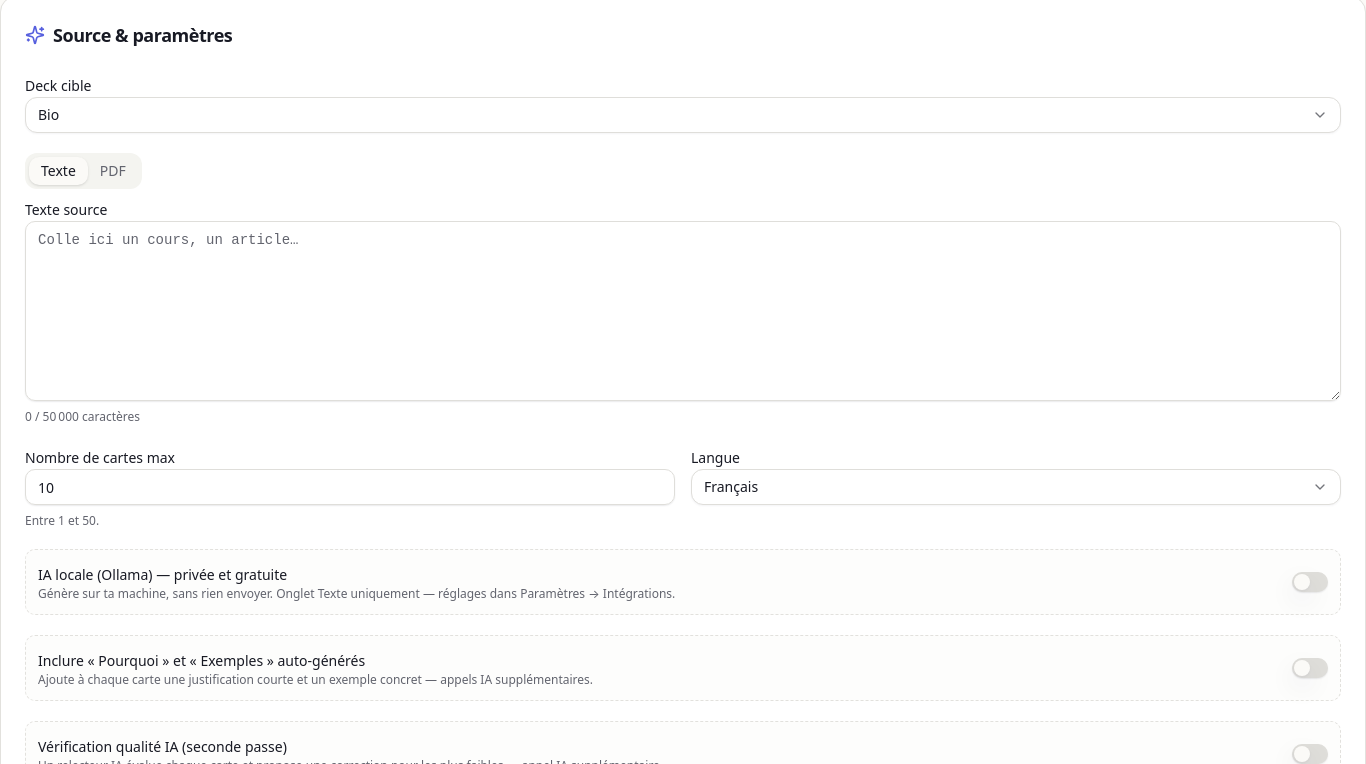
Scenario: AiGenerator — critic pass › applies the suggested fix and drops the suggestion when clicked
This screenshot has width=1366, height=764.
In the text box labelled "Texte source": (683, 311) [25,221,1341,401], type "Some study content."
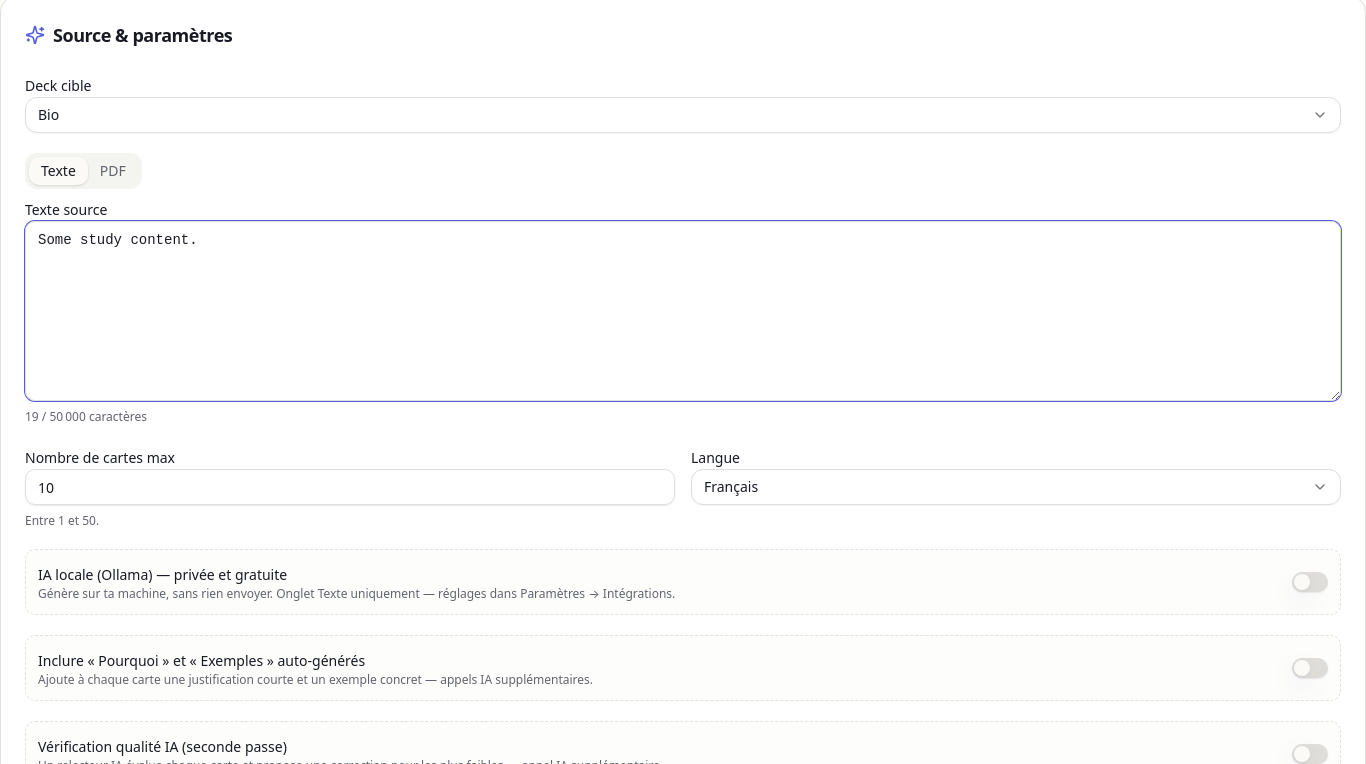
Click the switch named "Vérification qualité IA" in the row of "Vérification qualité IA (seconde passe)": (1310, 754) [1292,744,1328,763]
(page scrolled)
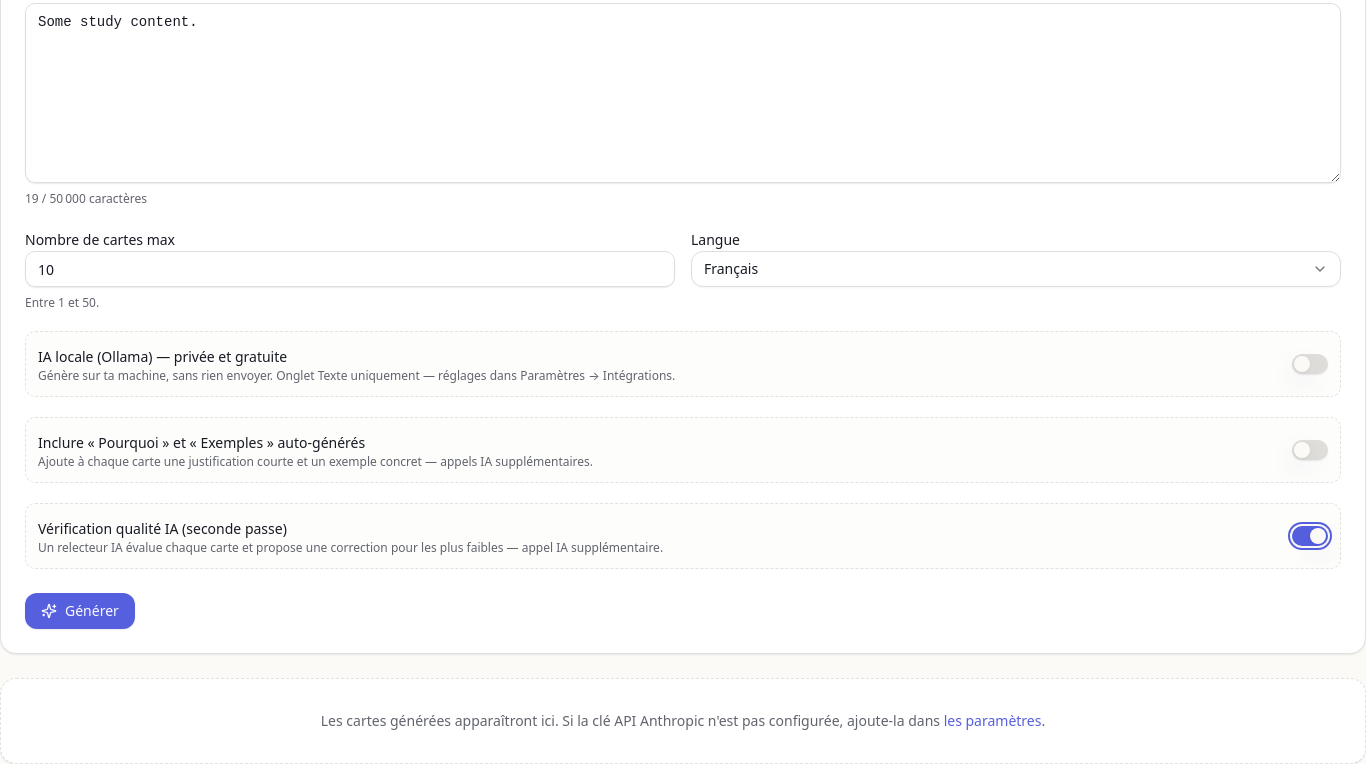
Click the button "Générer": (80, 611) [25,593,135,629]
(page scrolled)
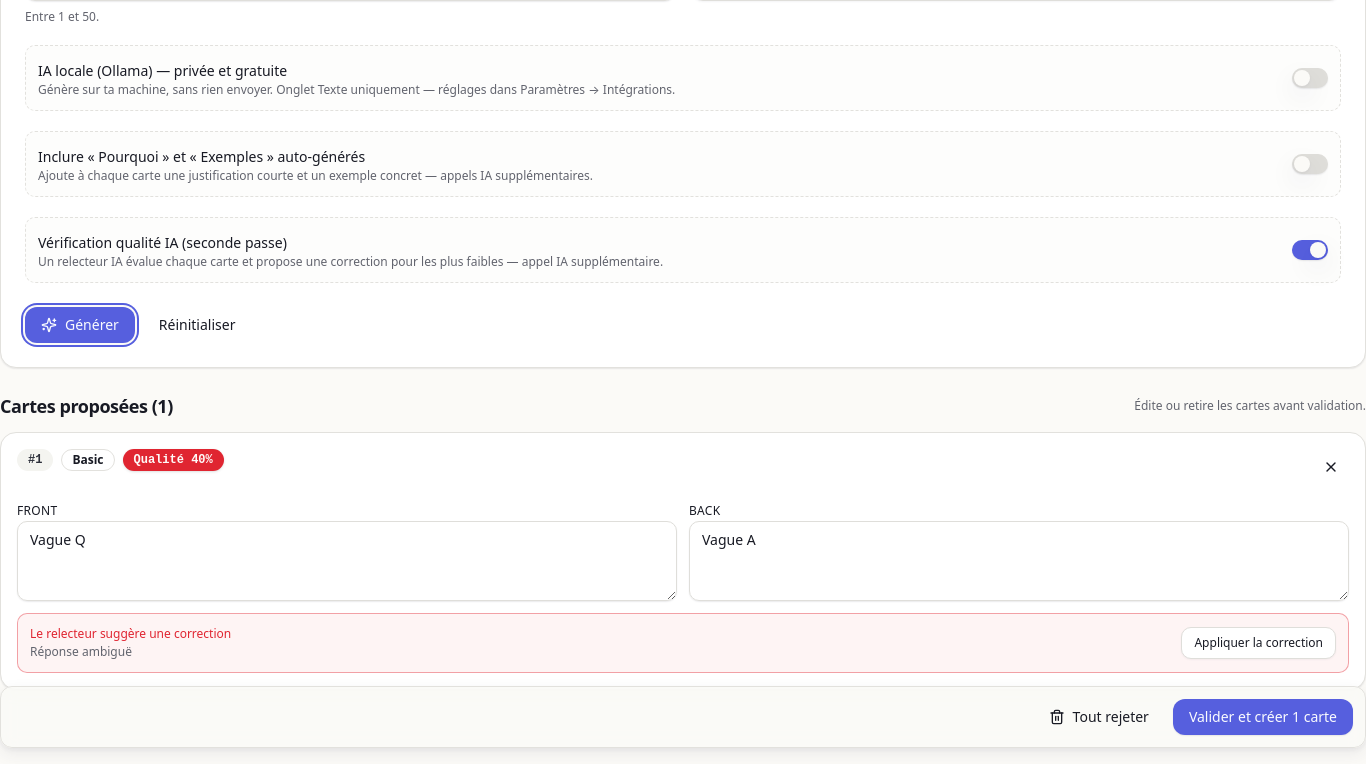
Expected: the text box showing "Vague Q" is shown, [17,521,677,601]
Click the button with test id "apply-fix-0": (1259, 643) [1182,627,1336,659]
(page scrolled)
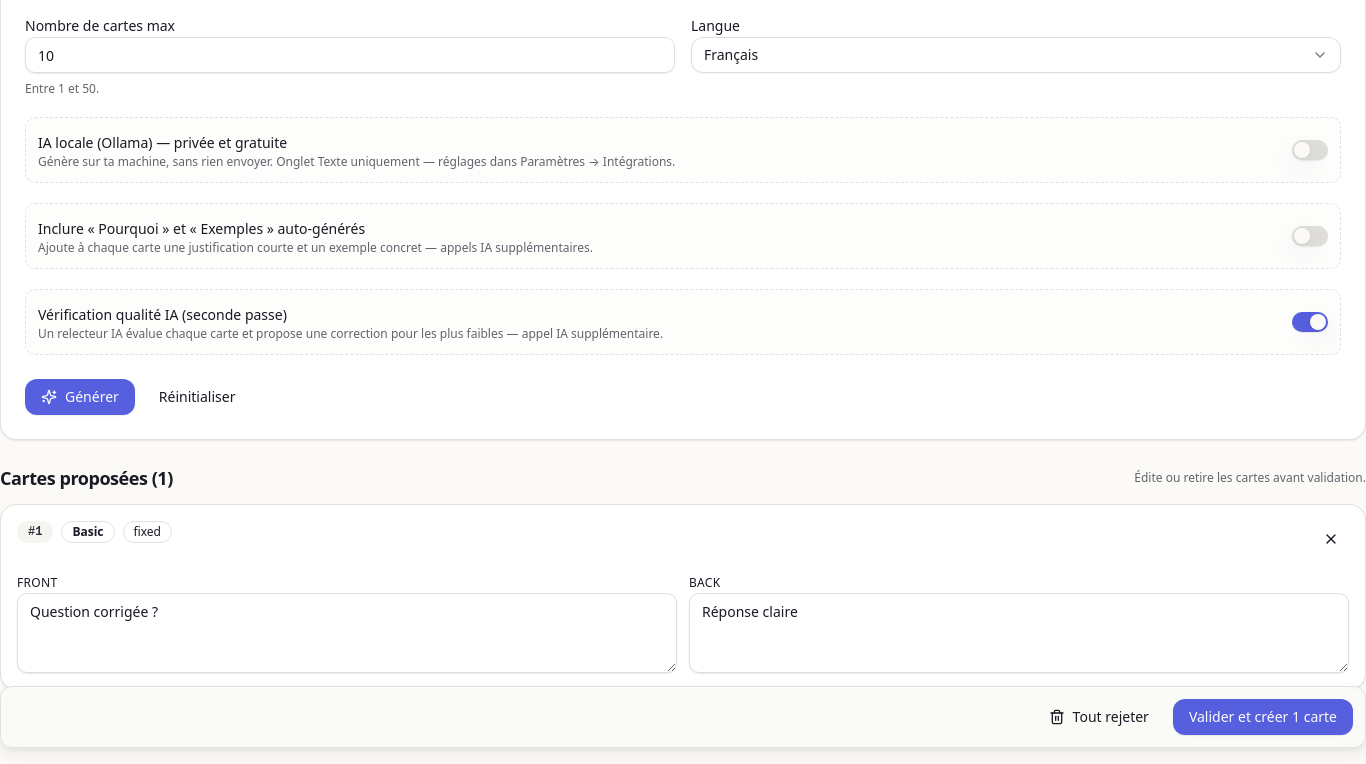
Expected: the text box showing "Question corrigée ?" is shown, [17,593,677,673]
Expected: the text box showing "Réponse claire" is shown, [689,593,1349,673]
Expected: the button with test id "apply-fix-0" is gone
